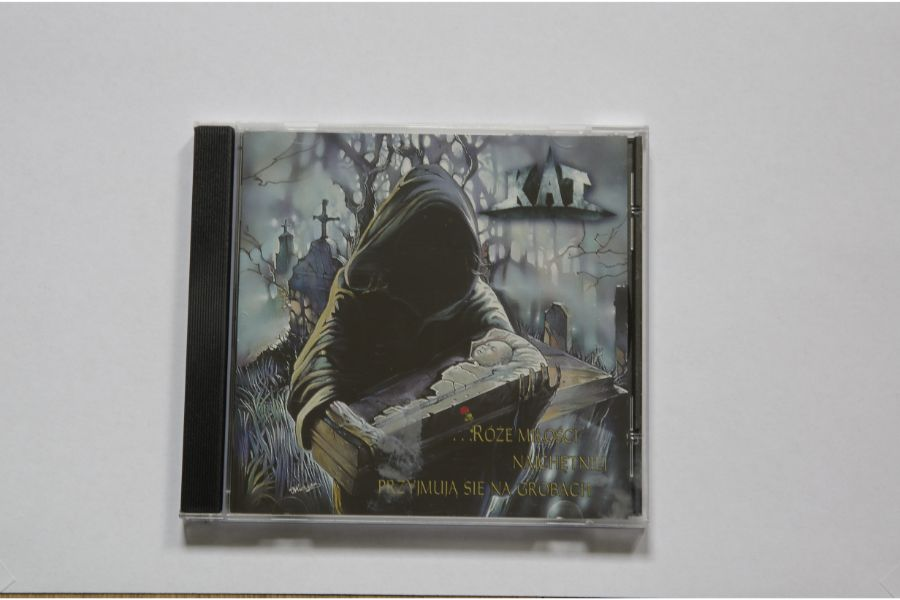album: (177, 123, 648, 528)
